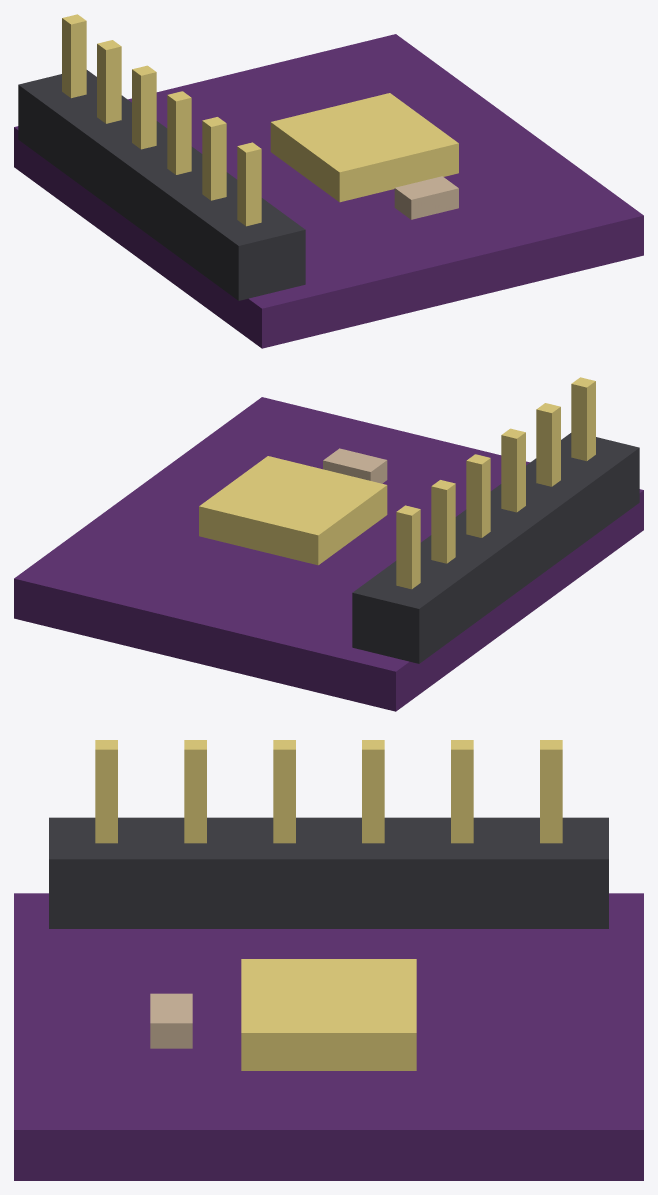
File: inmp441_microphone.glb
3 views of the same model, one above another, from view 1: azimuth 30°, elevation 25°; view 2: azimuth 150°, elevation 25°; view 3: azimuth 270°, elevation 25° (orthographic). The views are drawn at different scales.
Parts seen in each view (by area): view 1: INMP441_PCB, INMP441_Header_Base, MEMS_Sensor_Package, Decoupling_Cap, INMP441_SCK, INMP441_VDD, INMP441_L_R, INMP441_WS, INMP441_GND, INMP441_SD; view 2: INMP441_PCB, INMP441_Header_Base, MEMS_Sensor_Package, INMP441_GND, INMP441_WS, INMP441_SD, INMP441_VDD, INMP441_L_R, INMP441_SCK, Decoupling_Cap; view 3: INMP441_PCB, INMP441_Header_Base, MEMS_Sensor_Package, Decoupling_Cap, INMP441_GND, INMP441_L_R, INMP441_SCK, INMP441_SD, INMP441_VDD, INMP441_WS.
Boxes of the visible parts, x1,y1,x2,y2 form: INMP441_PCB: (14,34,643,348); INMP441_Header_Base: (18,70,305,300); MEMS_Sensor_Package: (270,93,458,202); Decoupling_Cap: (394,176,458,219); INMP441_SCK: (62,14,86,98); INMP441_VDD: (202,117,226,200); INMP441_L_R: (132,65,156,149); INMP441_WS: (97,40,121,123); INMP441_GND: (237,142,261,226); INMP441_SD: (167,91,191,174); INMP441_PCB: (14,397,643,711); INMP441_Header_Base: (352,433,639,663); MEMS_Sensor_Package: (199,456,387,565); INMP441_GND: (571,377,595,461); INMP441_WS: (431,480,455,563); INMP441_SD: (501,428,525,512); INMP441_VDD: (536,403,560,486); INMP441_L_R: (466,454,490,537); INMP441_SCK: (396,505,420,589); Decoupling_Cap: (323,448,387,483); INMP441_PCB: (14,893,643,1180); INMP441_Header_Base: (49,817,608,928); MEMS_Sensor_Package: (241,959,416,1070); Decoupling_Cap: (150,993,192,1048); INMP441_GND: (95,740,117,843); INMP441_L_R: (362,740,384,843); INMP441_SCK: (540,740,562,843); INMP441_SD: (273,740,295,843); INMP441_VDD: (184,740,206,843); INMP441_WS: (451,740,473,843).
Size of the model in its own units: 1.64 by 0.685 by 1.8.
